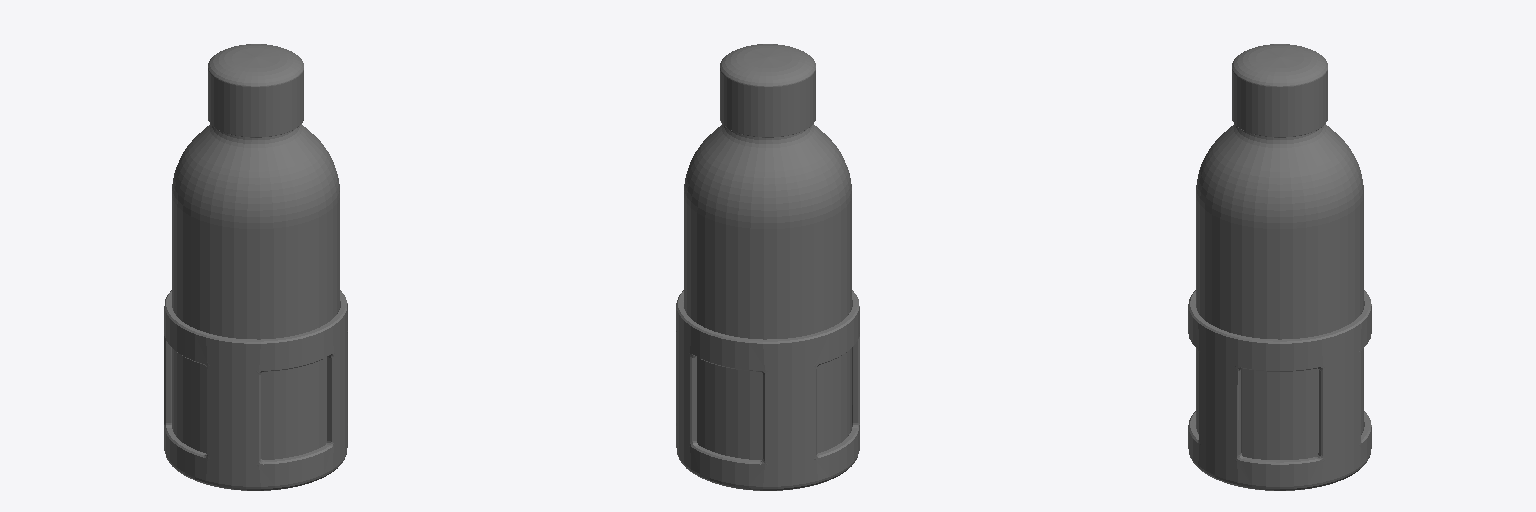
Rendered from waterbottle.obj.
3 views of the same model, side by side, from view 1: azimuth 30°, elevation 25°; view 2: azimuth 150°, elevation 25°; view 3: azimuth 270°, elevation 25° (orthographic).
Visible parts, largest first — view 1: WaterBottle_Mesh; view 2: WaterBottle_Mesh; view 3: WaterBottle_Mesh.
Part boxes in pixels (x1,y1,x2,y2): WaterBottle_Mesh: (164,44,347,490); WaterBottle_Mesh: (676,44,859,490); WaterBottle_Mesh: (1188,44,1371,490).
Size of the model in its own units: 0.1985 by 0.4748 by 0.1985.